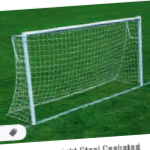goals: (6, 14, 145, 126)
